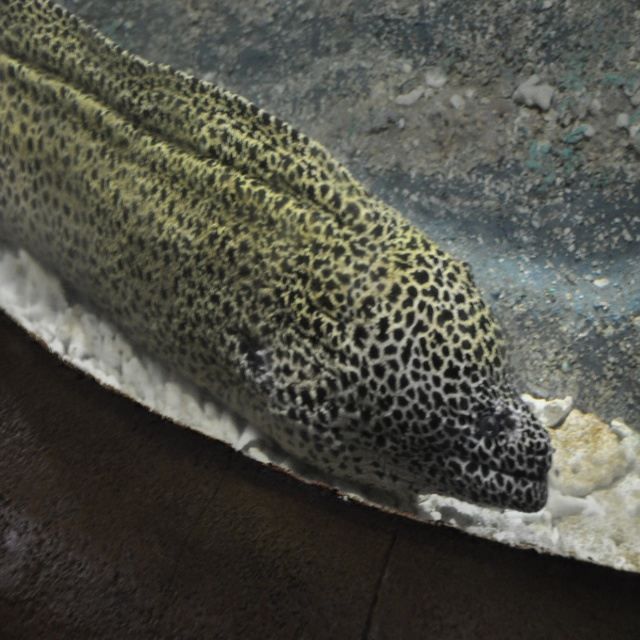Fish: (0, 0, 583, 557)
